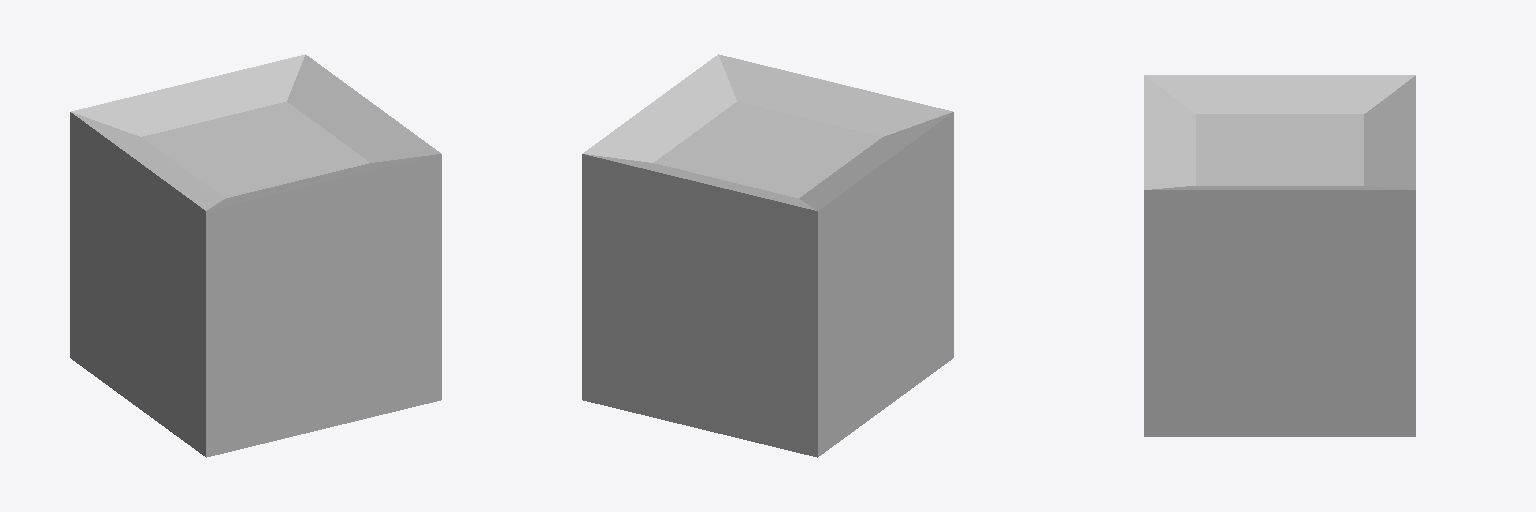
Rendered from multitex.obj.
3 views of the same model, side by side, from view 1: azimuth 30°, elevation 25°; view 2: azimuth 150°, elevation 25°; view 3: azimuth 270°, elevation 25° (orthographic).
Visible parts, largest first — view 1: Cube_Cube.001; view 2: Cube_Cube.001; view 3: Cube_Cube.001.
Part boxes in pixels (bbox=[...]): Cube_Cube.001: bbox=[70, 54, 441, 457]; Cube_Cube.001: bbox=[582, 54, 953, 457]; Cube_Cube.001: bbox=[1144, 75, 1415, 436].
Size of the model in its own units: 2 by 2 by 2.